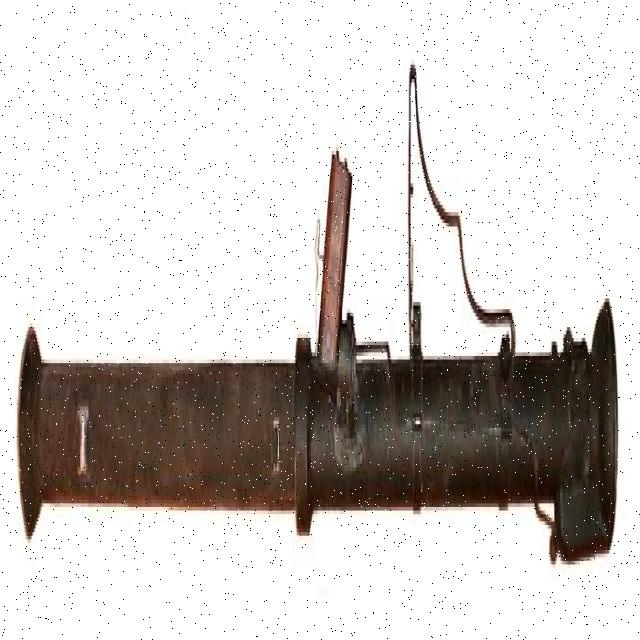bazooka: (11, 52, 623, 571)
